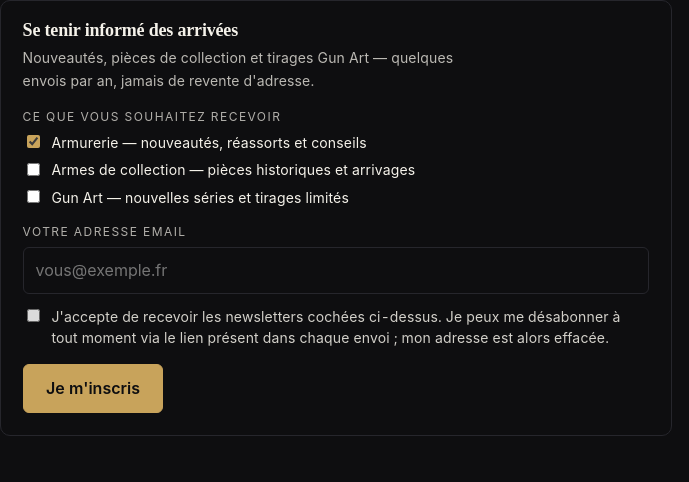
Scenario: NewsletterSignup › rejects a malformed address client-side
Step 1. Type "pas-un-email" into the field labelled "Votre adresse email" → (336, 271), box [23,247,649,294]
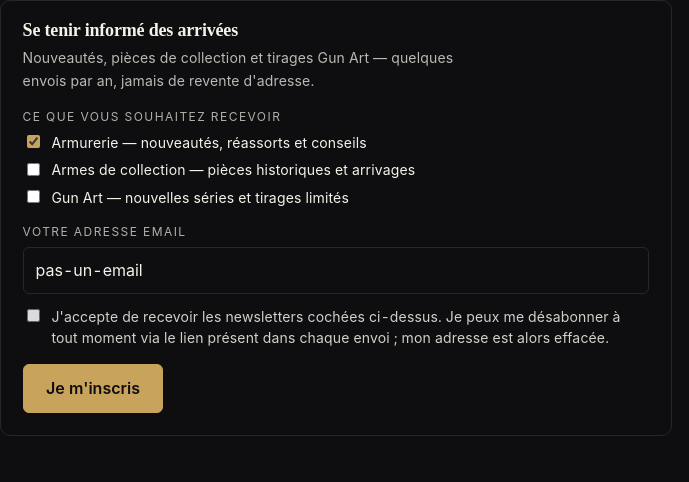
Step 2. Click the 4th checkbox → (33, 315), box [27,309,40,322]
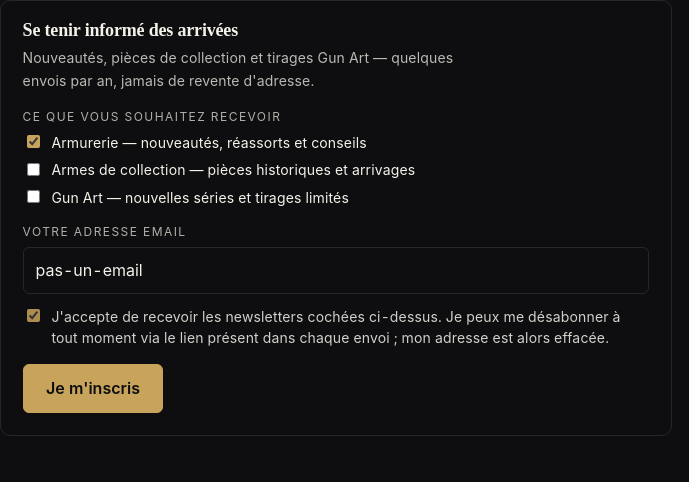
Step 3. Submit the form
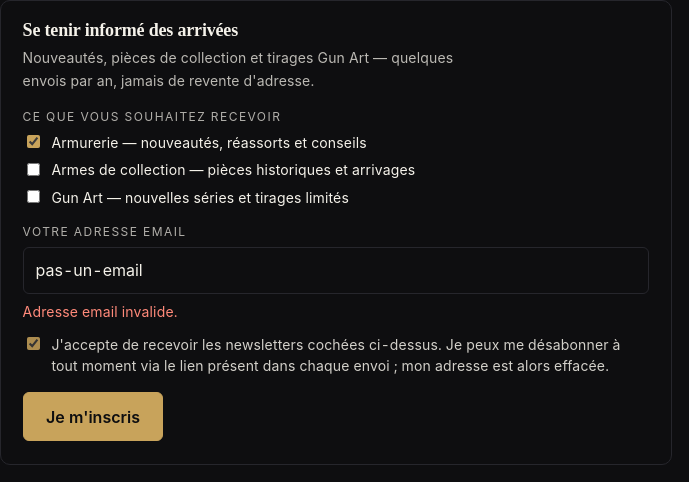
Now the text "Adresse email invalide." is shown, box [23,303,178,320]
